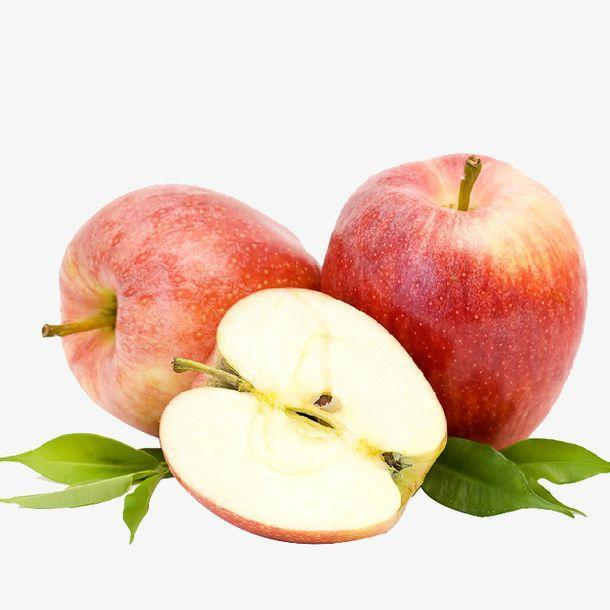apple: (317, 154, 588, 448), (159, 286, 448, 544), (53, 181, 321, 433)
